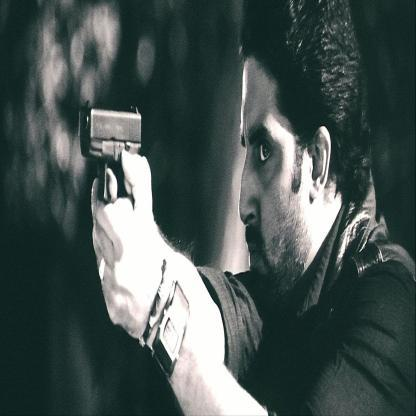gun: (75, 99, 140, 204)
